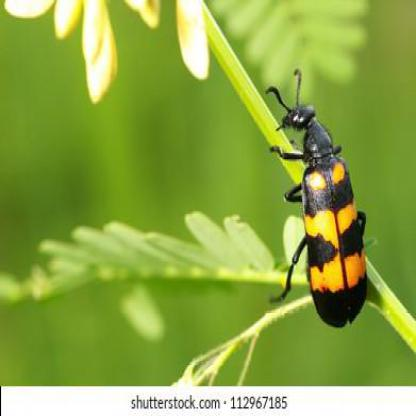blister beetle: (268, 72, 368, 326)
